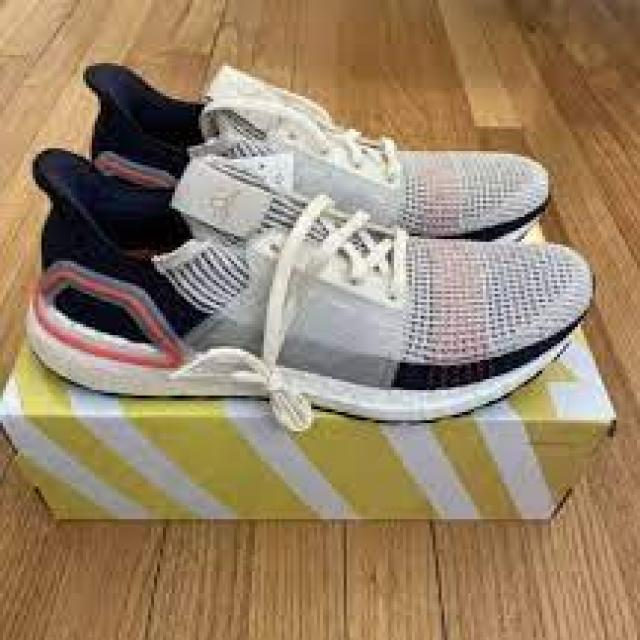shoe: (21, 58, 596, 414), (31, 142, 602, 427)
